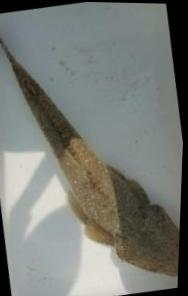fish: (0, 34, 181, 276)
